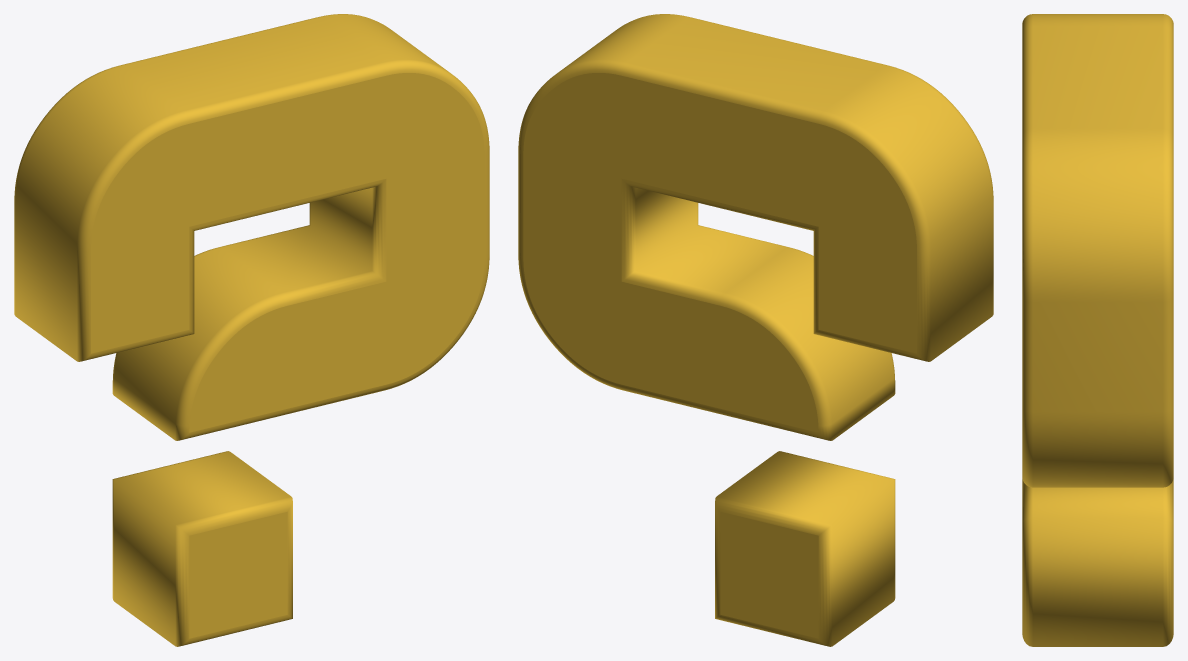
Rendered from ask.glb.
3 renders of one model, left to right at view 1: azimuth 30°, elevation 25°; view 2: azimuth 150°, elevation 25°; view 3: azimuth 270°, elevation 25°, orthographic. The views are drawn at different scales.
Parts seen in each view (by area): view 1: ?; view 2: ?; view 3: ?.
Boxes of the visible parts, x1,y1,x2,y2 form: ?: (14, 14, 489, 646); ?: (518, 14, 993, 646); ?: (1022, 14, 1173, 646).
Size of the model in its own units: 0.4644 by 0.5756 by 0.14.
